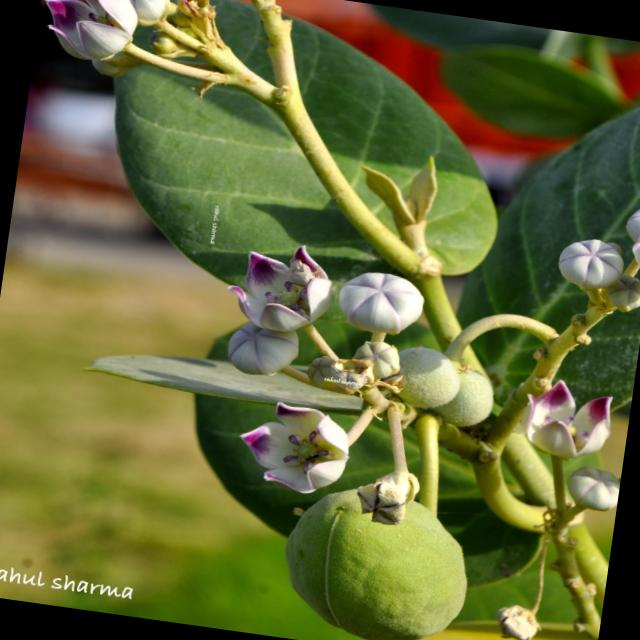Poisonous-Calatropis: (215, 0, 640, 640), (36, 0, 304, 122)
